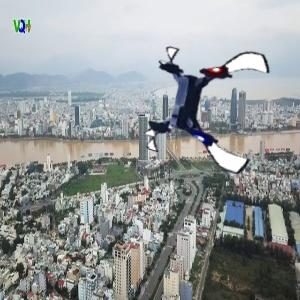drone: (146, 41, 273, 168)
